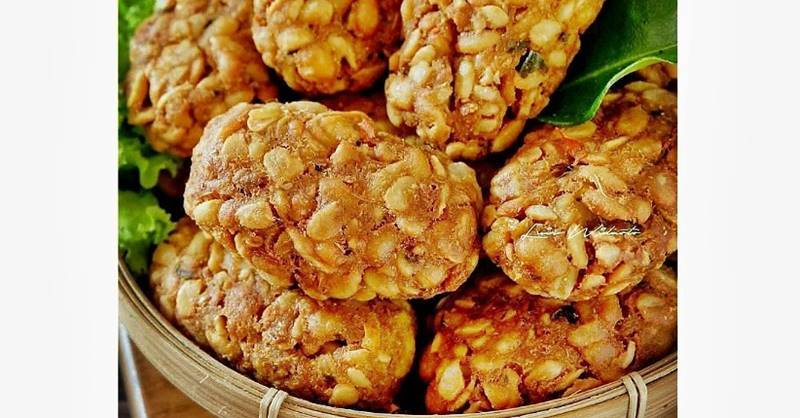Tempe: (176, 110, 453, 291), (446, 141, 694, 291), (421, 284, 633, 418)
